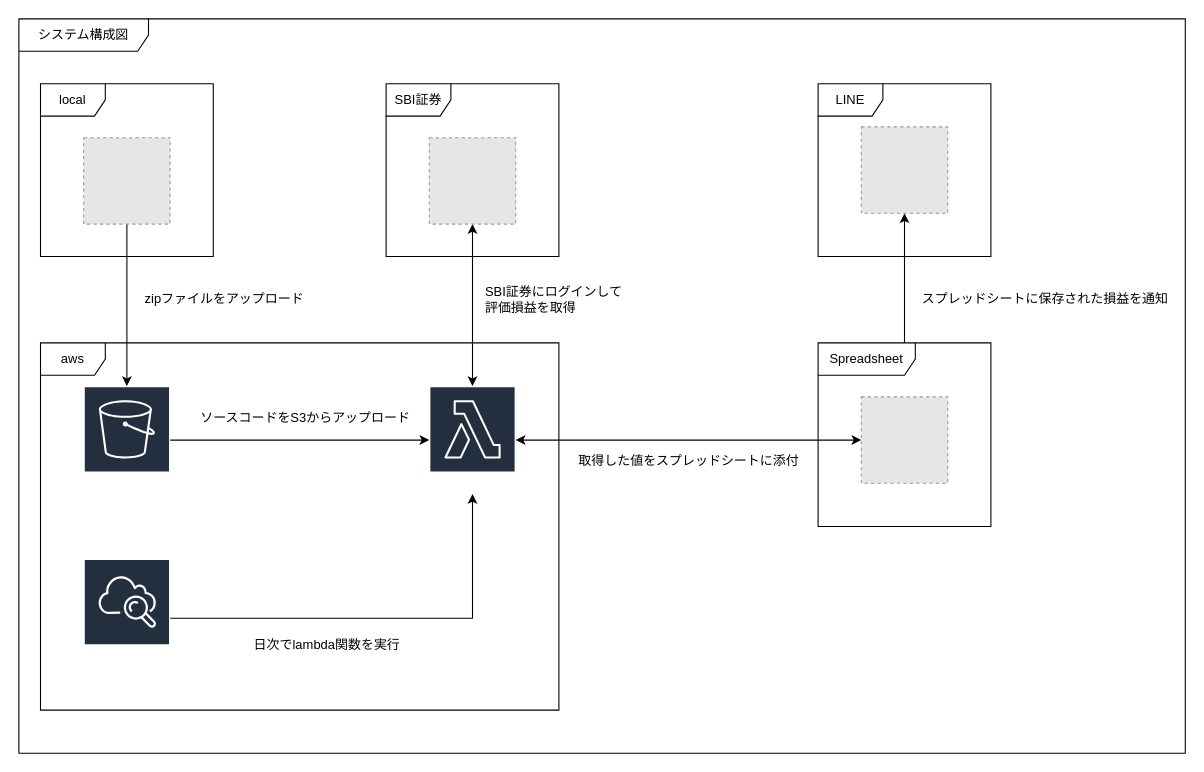
Image size: 1204x772. Some labels were removed from this diagram. Grey dashed boxes stand in for pictures. Here are the shapes that lost their labels. From the top down, the centre of each, then its label:
At point 126,439: "Amazon S3".
At point 472,439: "AWS Lambda".
At point 126,618: "Amazon CloudWatch".
